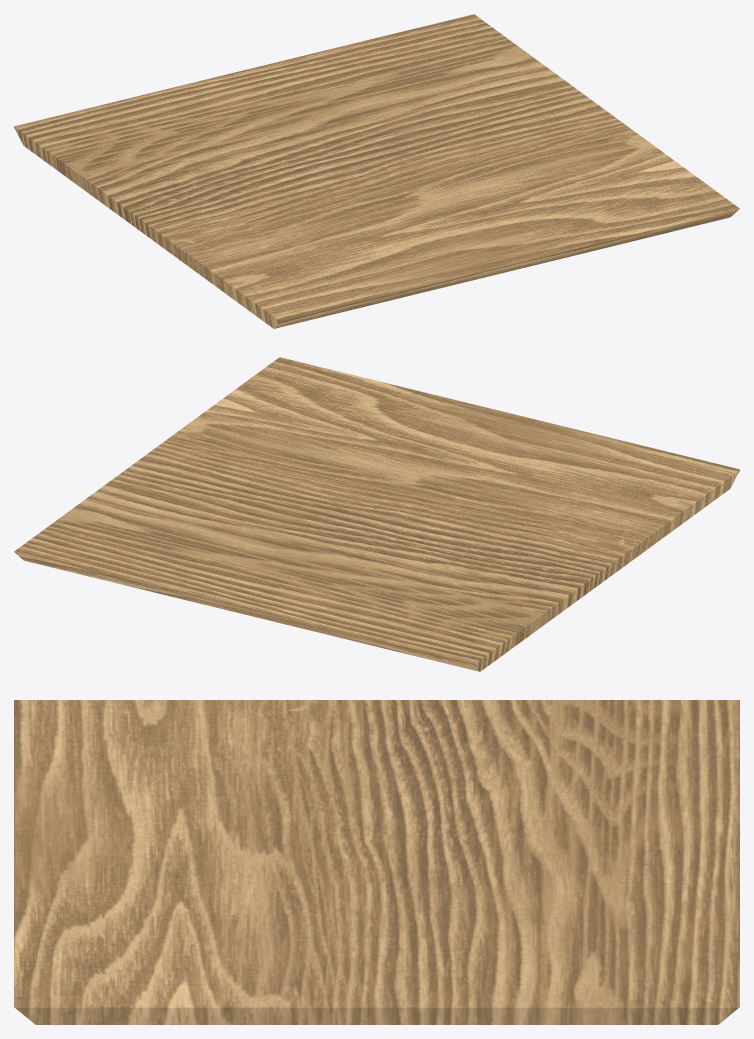
File: square3.glb
The picture shows the model from 3 angles, top to bottom: view 1: azimuth 30°, elevation 25°; view 2: azimuth 150°, elevation 25°; view 3: azimuth 270°, elevation 25°; orthographic projection. The views are drawn at different scales.
Parts seen in each view (by area): view 1: Square3; view 2: Square3; view 3: Square3.
Part boxes in pixels (bbox=[...]): Square3: bbox=[14, 14, 739, 328]; Square3: bbox=[14, 357, 739, 671]; Square3: bbox=[14, 700, 739, 1024].
Size of the model in its own units: 0.9997 by 0.03 by 0.9986.
1 material, 1 textured.
